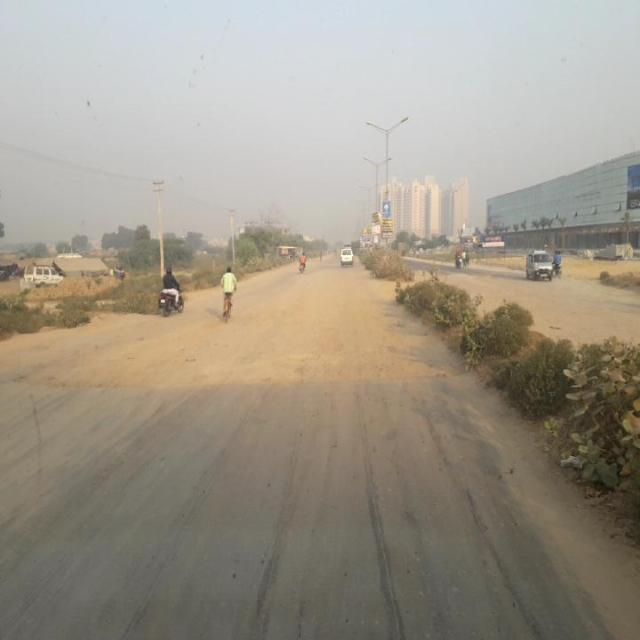Surface Erosion: (129, 257, 491, 498)
